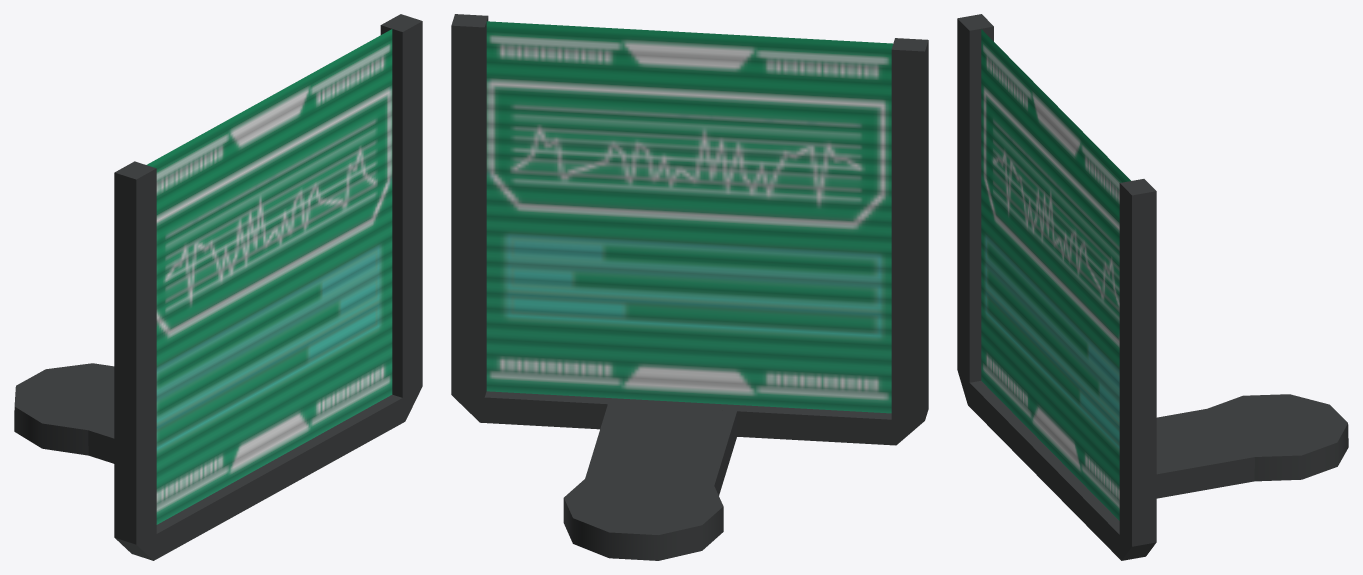
Rendered from Terminal_006_monitor_001.fbx.
3 renders of one model, left to right at view 1: azimuth 30°, elevation 25°; view 2: azimuth 150°, elevation 25°; view 3: azimuth 270°, elevation 25°, orthographic. The views are drawn at different scales.
Visible parts, largest first — view 1: Terminal_006_monitor_001; view 2: Terminal_006_monitor_001; view 3: Terminal_006_monitor_001.
Boxes of the visible parts, <box> form: Terminal_006_monitor_001: <box>14,14,422,560</box>; Terminal_006_monitor_001: <box>451,14,928,560</box>; Terminal_006_monitor_001: <box>957,14,1348,560</box>.
Size of the model in its own units: 34.99 by 31.9 by 33.83.
